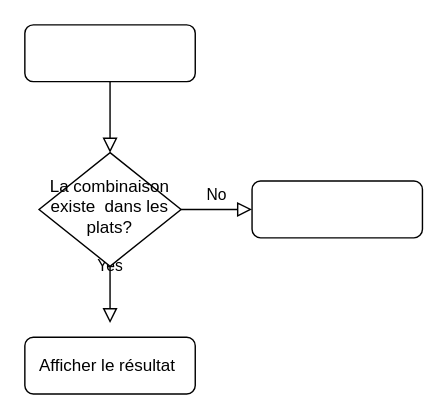
Image size: 447x419. Some labels were removed from this diagram. The shapes that lost their labels are listed below. From the top down, each one's box as (x1, y1, x2, y2) in pixels, then its label:
(23, 23, 195, 82): Utilisateur tapes 3 lettres
(251, 180, 422, 238): Afficher le message
